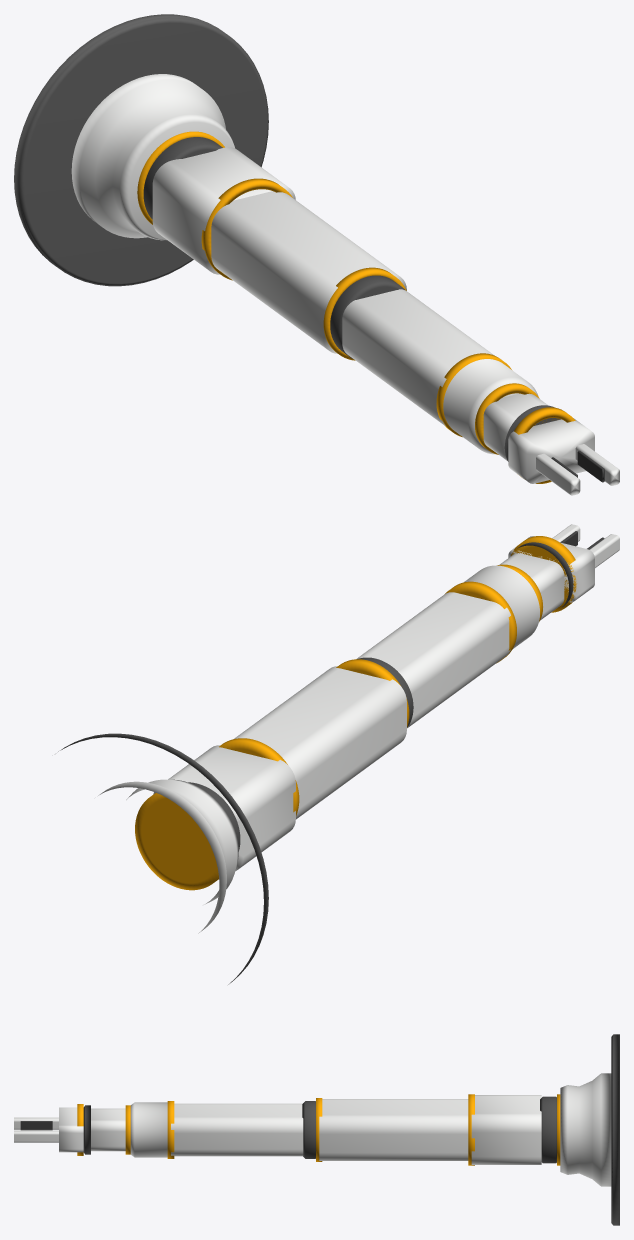
The model's file is axon-6.glb.
3 renders of one model, top to bottom at view 1: azimuth 30°, elevation 25°; view 2: azimuth 150°, elevation 25°; view 3: azimuth 270°, elevation 25°, orthographic. The views are drawn at different scales.
Parts seen in each view (by area): view 1: plinth, upper_arm, pedestal, forearm, shoulder, wrist_housing, gripper_body, wrist_yoke, j3_barrel, j1_barrel, j2_collar, j3_collar (+5 smaller); view 2: upper_arm, forearm, shoulder, j1_collar, pedestal, wrist_housing, plinth, wrist_yoke, gripper_body, j6_collar, j4_collar, j2_collar (+1 smaller); view 3: upper_arm, forearm, pedestal, shoulder, wrist_housing, plinth, wrist_yoke, j1_barrel, gripper_body, j3_barrel, finger_right, j4_collar (+7 smaller).
Boxes of the visible parts, x1=… form: plinth: x1=14, y1=14, x2=268, y2=286; upper_arm: x1=211, y1=191, x2=406, y2=353; pedestal: x1=71, y1=74, x2=234, y2=240; forearm: x1=342, y1=289, x2=494, y2=426; shoulder: x1=152, y1=147, x2=295, y2=274; wrist_housing: x1=443, y1=359, x2=538, y2=454; gripper_body: x1=508, y1=418, x2=594, y2=483; wrist_yoke: x1=483, y1=393, x2=548, y2=460; j3_barrel: x1=330, y1=275, x2=405, y2=358; j1_barrel: x1=143, y1=137, x2=222, y2=219; j2_collar: x1=201, y1=178, x2=292, y2=280; j3_collar: x1=323, y1=267, x2=406, y2=360; upper_arm: x1=233, y1=666, x2=406, y2=819; forearm: x1=356, y1=592, x2=510, y2=728; shoulder: x1=153, y1=745, x2=295, y2=870; j1_collar: x1=135, y1=793, x2=218, y2=890; pedestal: x1=98, y1=779, x2=238, y2=933; wrist_housing: x1=464, y1=565, x2=539, y2=649; plinth: x1=58, y1=733, x2=268, y2=984; wrist_yoke: x1=499, y1=553, x2=564, y2=620; gripper_body: x1=508, y1=536, x2=594, y2=602; j6_collar: x1=510, y1=536, x2=576, y2=612; j4_collar: x1=445, y1=581, x2=516, y2=663; j2_collar: x1=219, y1=738, x2=299, y2=815; upper_arm: x1=319, y1=1099, x2=468, y2=1160; forearm: x1=171, y1=1103, x2=303, y2=1156; pedestal: x1=560, y1=1073, x2=611, y2=1186; shoulder: x1=471, y1=1095, x2=541, y2=1164; wrist_housing: x1=130, y1=1102, x2=167, y2=1157; plinth: x1=611, y1=1034, x2=619, y2=1225; wrist_yoke: x1=91, y1=1108, x2=125, y2=1151; j1_barrel: x1=540, y1=1096, x2=556, y2=1163; gripper_body: x1=59, y1=1107, x2=83, y2=1152; j3_barrel: x1=302, y1=1101, x2=315, y2=1158; finger_right: x1=14, y1=1130, x2=58, y2=1142; j4_collar: x1=167, y1=1101, x2=174, y2=1158.
Size of the model in its own units: 0.264 by 0.264 by 0.834.
